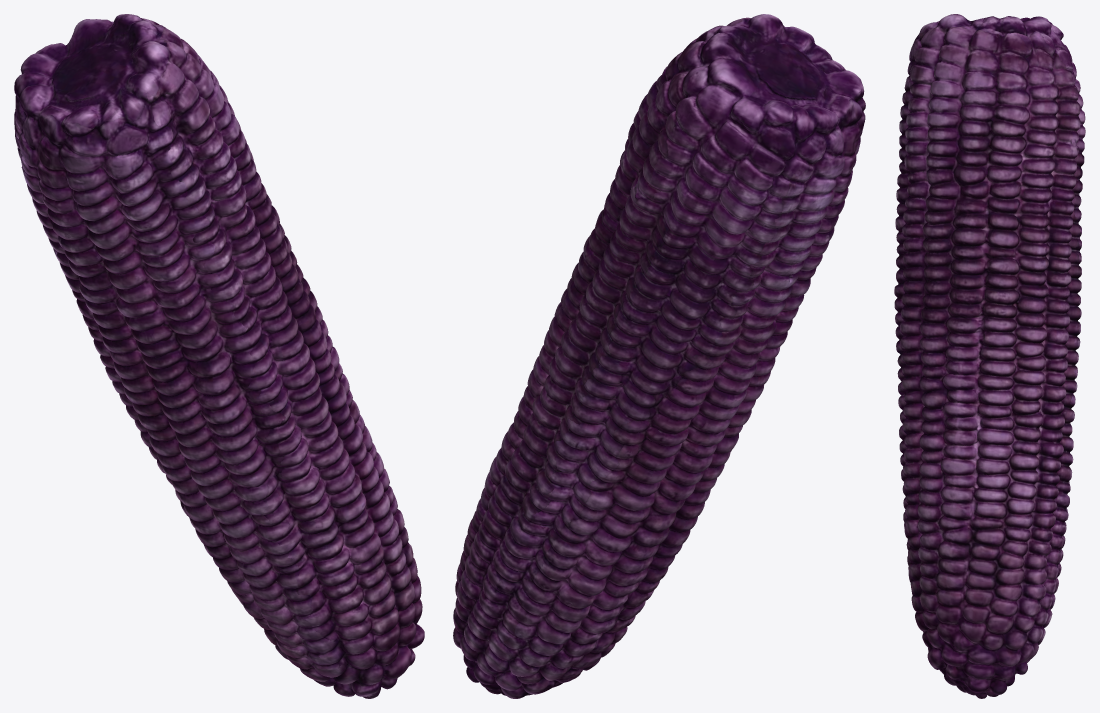
The model's file is cornV2.glb.
3 views of the same model, side by side, from view 1: azimuth 30°, elevation 25°; view 2: azimuth 150°, elevation 25°; view 3: azimuth 270°, elevation 25° (orthographic). The views are drawn at different scales.
Parts seen in each view (by area): view 1: Object_7; view 2: Object_7; view 3: Object_7.
Boxes of the visible parts, box(x1,y1,x2,y2) form: Object_7: box(14, 14, 424, 698); Object_7: box(453, 14, 865, 698); Object_7: box(894, 14, 1085, 698).
Size of the model in its own units: 97.42 by 174 by 51.28.
Materials: 1 (1 with a texture image).
